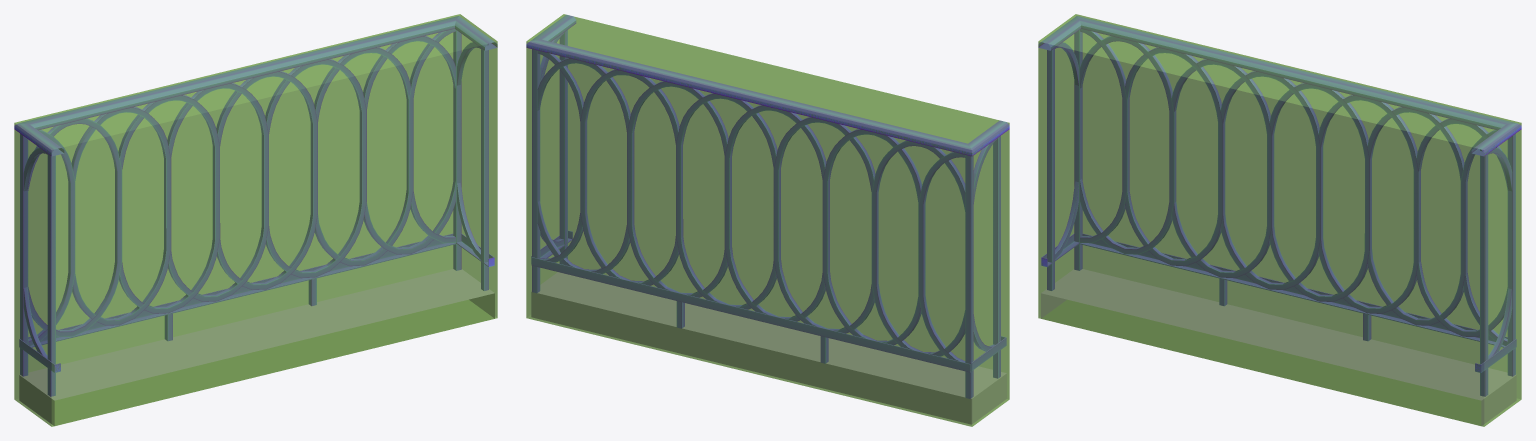
Rendered from F_Balcony_S_03.fbx.
3 renders of one model, left to right at view 1: azimuth 30°, elevation 25°; view 2: azimuth 150°, elevation 25°; view 3: azimuth 330°, elevation 25°, orthographic.
Visible parts, largest first — view 1: F_Balcony_S_03_col_01, F_Balcony_S_03_LOD0; view 2: F_Balcony_S_03_col_01, F_Balcony_S_03_LOD0; view 3: F_Balcony_S_03_col_01, F_Balcony_S_03_LOD0.
Part boxes in pixels (box(x1,y1,x2,y2)): F_Balcony_S_03_col_01: box(14, 14, 497, 426); F_Balcony_S_03_LOD0: box(14, 16, 497, 425); F_Balcony_S_03_col_01: box(526, 14, 1009, 426); F_Balcony_S_03_LOD0: box(526, 15, 1009, 424); F_Balcony_S_03_col_01: box(1038, 14, 1521, 426); F_Balcony_S_03_LOD0: box(1038, 16, 1521, 425).
Size of what is drawn, in the model's own units: 182 by 108 by 26.54.
